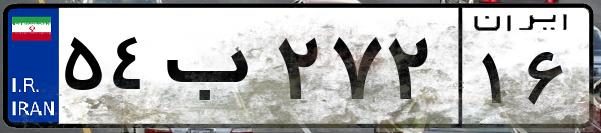1: (475, 38, 525, 113)
2: (270, 28, 330, 110), (385, 28, 445, 110)
4: (110, 28, 158, 98)
5: (57, 26, 110, 100)
6: (525, 38, 570, 115)
7: (330, 28, 385, 110)
ب: (158, 20, 270, 120)
